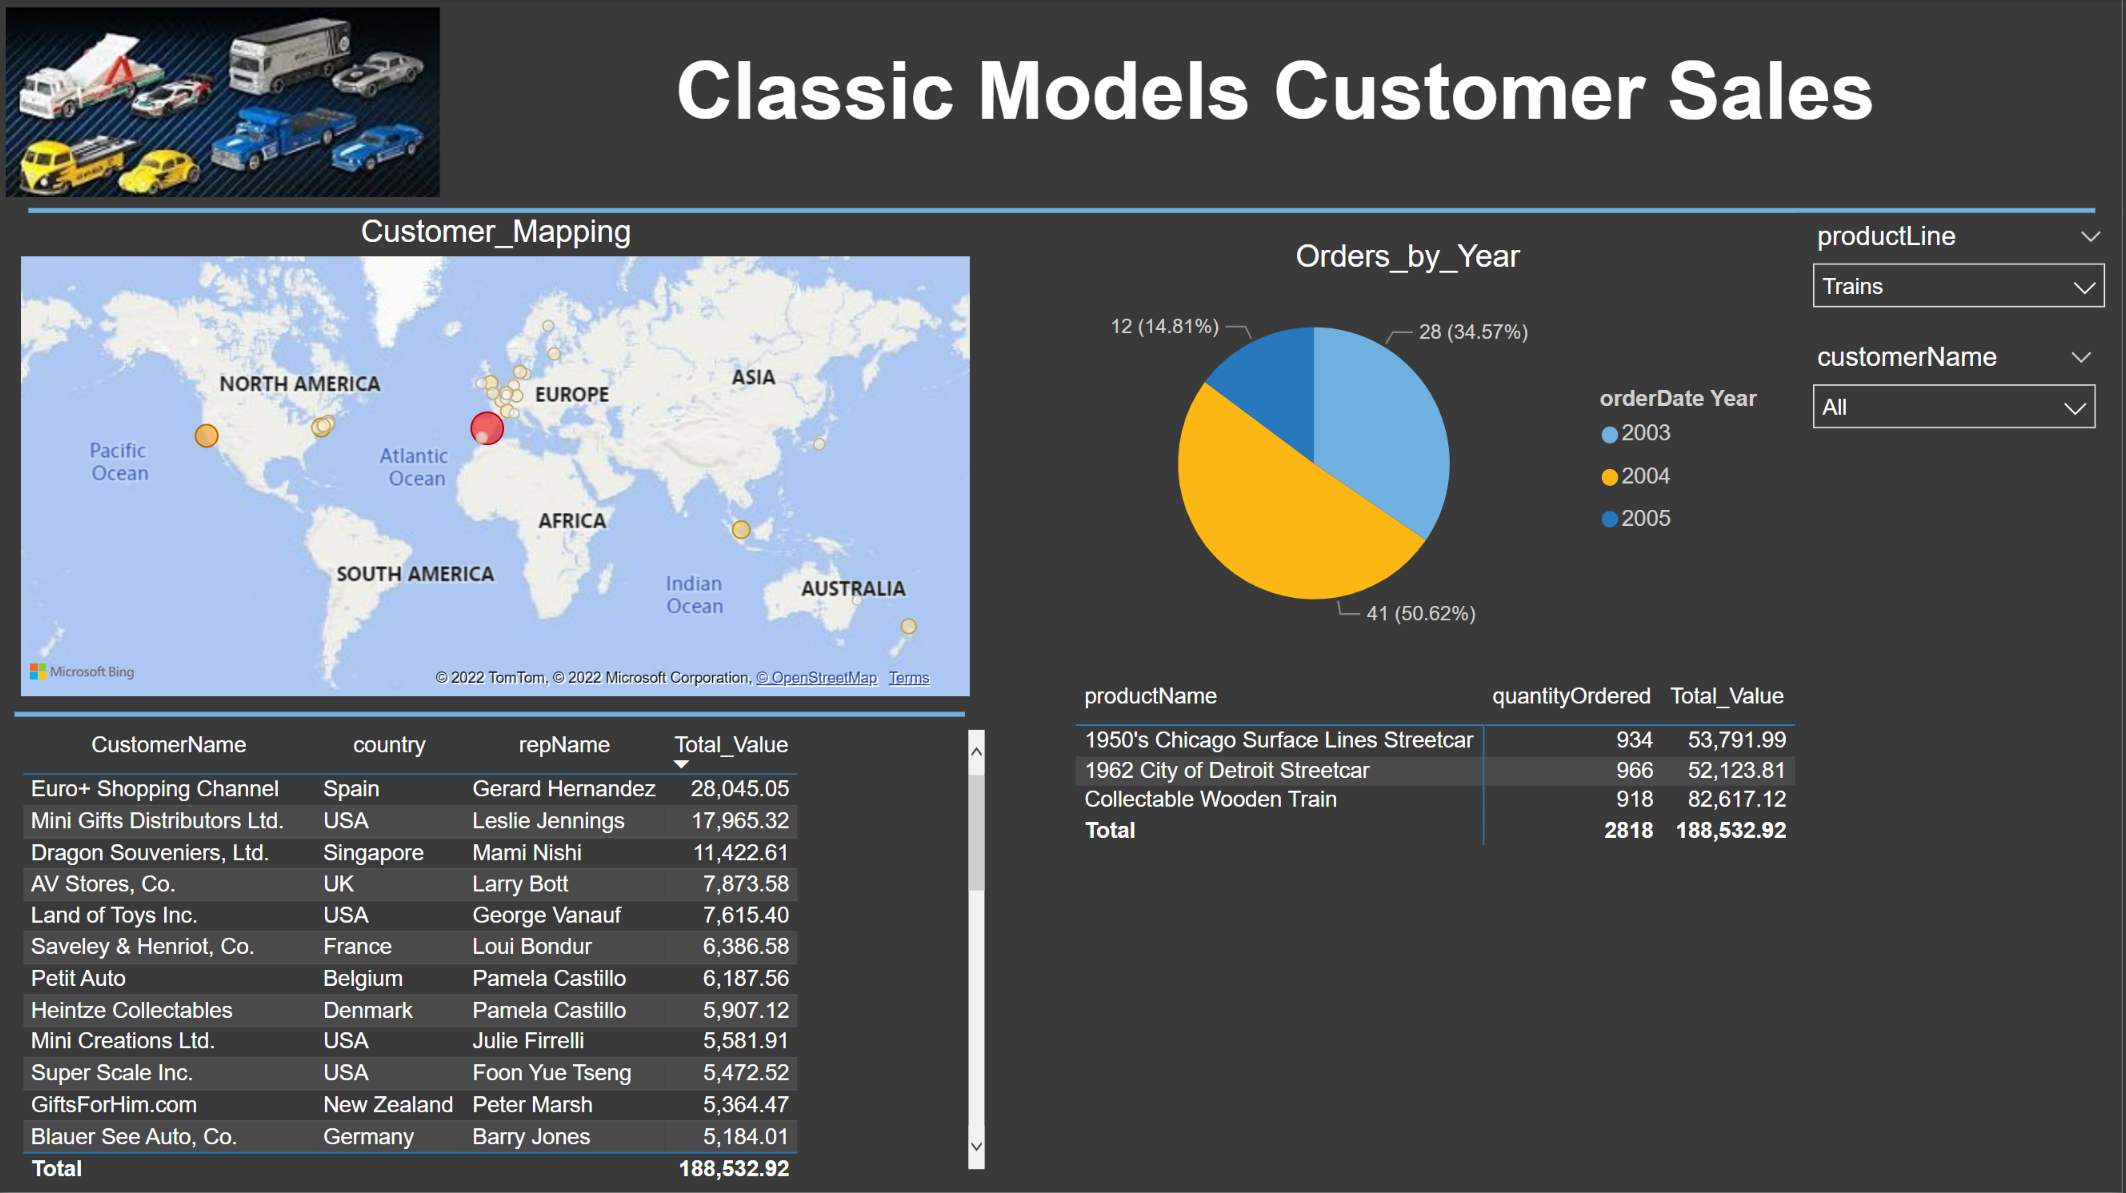

The dashboard page shown, as its layout file describes it:
{"tool":"powerbi","page":{"name":"Scenario3","canvas":[1280,720],"ordinal":2},"visuals":[{"type":"textbox","box":[295.8,10.5,948.2,80.5],"z":0},{"type":"image","box":[0,0,271.6,125],"z":1000},{"type":"basicShape","box":[8.6,111.2,1265.7,34.2],"z":2000},{"type":"basicShape","box":[0,395.3,592.9,72.6],"z":3000},{"type":"map","title":"Customer_Mapping","fields":{"Category":["Customers.city"],"Size":["Sum(Order_Details.Total_Value)"]},"box":[9.2,130.2,582.4,295.8],"z":4000},{"type":"slicer","fields":{"Values":["Products.productLine"]},"box":[1083.3,129.7,196.7,72.7],"z":5000},{"type":"tableEx","fields":{"Values":["Order_Details.CustomerName","Customers.country","Customers.repName","Sum(Order_Details.Total_Value)"]},"box":[9.2,436.5,590.3,283.4],"z":6000},{"type":"pivotTable","fields":{"Values":["Sum(Order_Details.quantityOrdered)","Sum(Order_Details.Total_Value)"],"Rows":["Order_Details.productName"]},"box":[644.6,419.5,593.5,293.8],"z":7000},{"type":"pieChart","title":"Orders_by_Year","fields":{"Y":["CountNonNull(Order_Details.orderNumber)"],"Category":["Orders.orderDate.Variation.Date Hierarchy.Year","Orders.orderDate.Variation.Date Hierarchy.Quarter","Orders.orderDate.Variation.Date Hierarchy.Month","Orders.orderDate.Variation.Date Hierarchy.Day"]},"box":[615.8,145.4,467.5,249.4],"z":8000},{"type":"slicer","fields":{"Values":["Customers.customerName"]},"box":[1083.3,202.4,191,62.7],"z":9000}]}

Visuals, with their boxes in screenshot pixels (x1, y1, x2, y2), scaled from the page's 1280x720 canvas onto the 2126x1193 screenshot:
textbox: (left=491, top=17, right=2066, bottom=151)
image: (left=0, top=0, right=451, bottom=207)
basicShape: (left=14, top=184, right=2117, bottom=241)
basicShape: (left=0, top=655, right=985, bottom=775)
"Customer_Mapping" map: (left=15, top=216, right=983, bottom=706)
slicer - Products.productLine: (left=1799, top=215, right=2125, bottom=335)
tableEx - Order_Details.CustomerName x Customers.country: (left=15, top=723, right=996, bottom=1192)
pivotTable - Sum(Order_Details.quantityOrdered) x Sum(Order_Details.Total_Value): (left=1071, top=695, right=2056, bottom=1182)
"Orders_by_Year" pieChart: (left=1023, top=241, right=1799, bottom=654)
slicer - Customers.customerName: (left=1799, top=335, right=2117, bottom=439)
